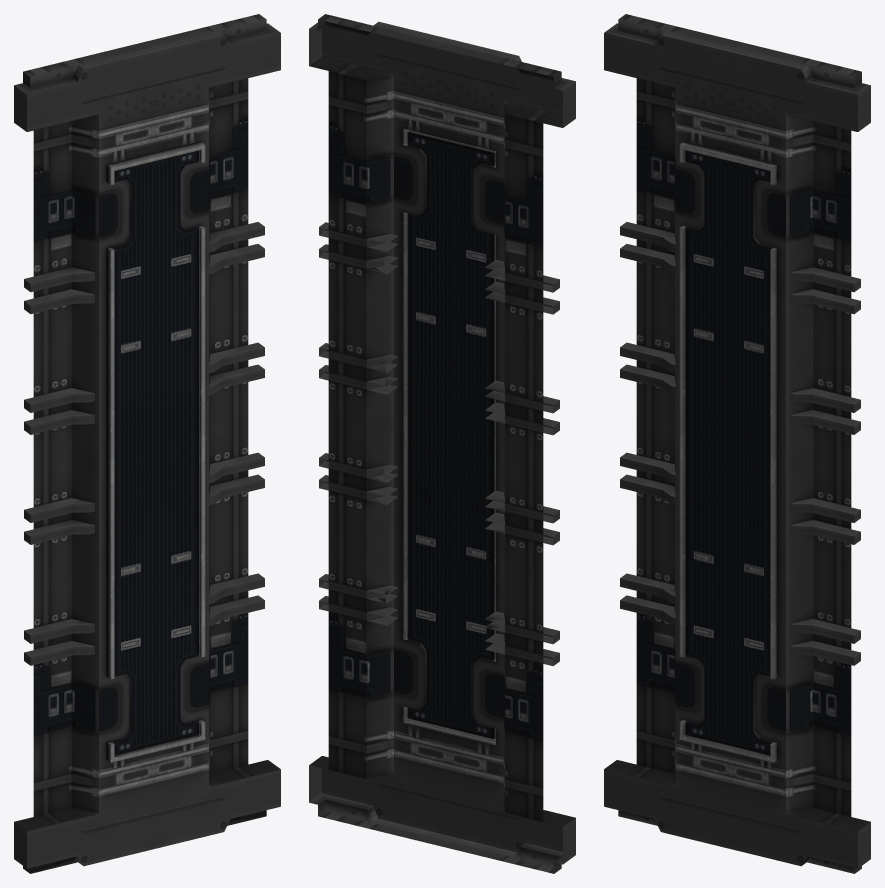
The model's file is Panel_C_1x3.FBX.
The picture shows the model from 3 angles, left to right: view 1: azimuth 30°, elevation 25°; view 2: azimuth 150°, elevation 25°; view 3: azimuth 330°, elevation 25°; orthographic projection.
Visible parts, largest first — view 1: Panel_C_1x3; view 2: Panel_C_1x3; view 3: Panel_C_1x3.
Boxes of the visible parts, box(x1,y1,x2,y2) form: Panel_C_1x3: box(14, 14, 280, 873); Panel_C_1x3: box(309, 14, 575, 873); Panel_C_1x3: box(604, 14, 870, 873).
Size of the model in its own units: 100 by 300 by 11.58.
